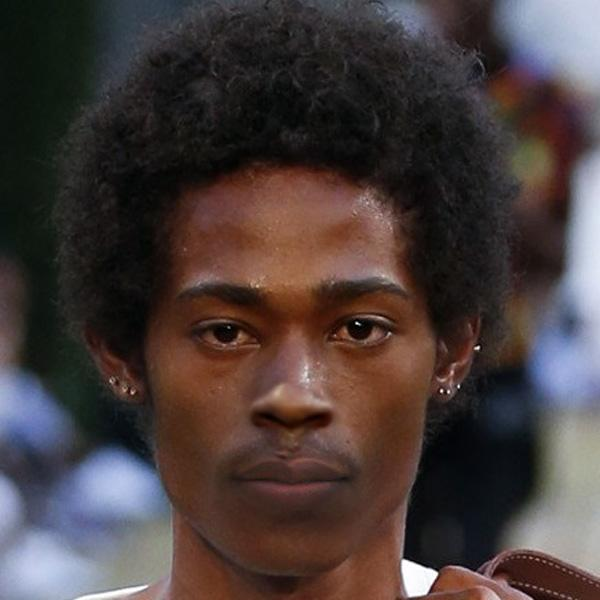Eyes: (179, 302, 269, 363), (322, 305, 401, 358)
